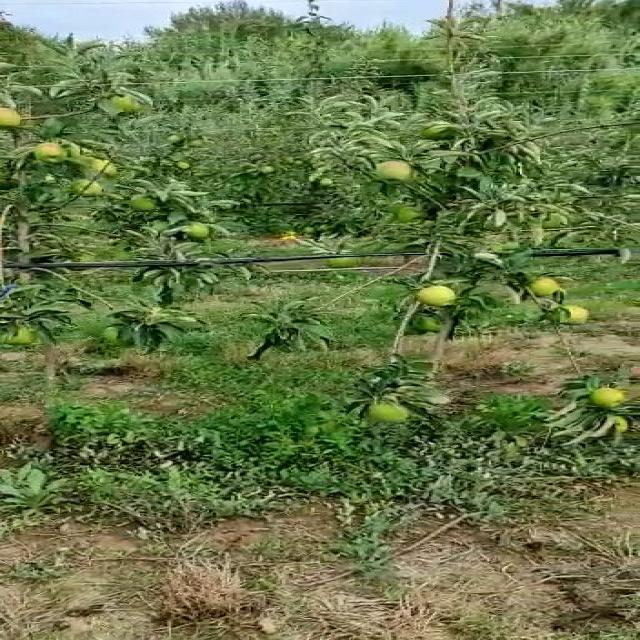100-_ripeness: (358, 402, 413, 424), (371, 160, 420, 183), (2, 324, 47, 346), (415, 285, 458, 308), (594, 386, 626, 412), (31, 141, 64, 165), (180, 222, 215, 240), (558, 306, 591, 324), (534, 277, 562, 298), (89, 160, 116, 181), (2, 107, 25, 129), (415, 310, 438, 332), (75, 183, 107, 198), (396, 207, 426, 220)
